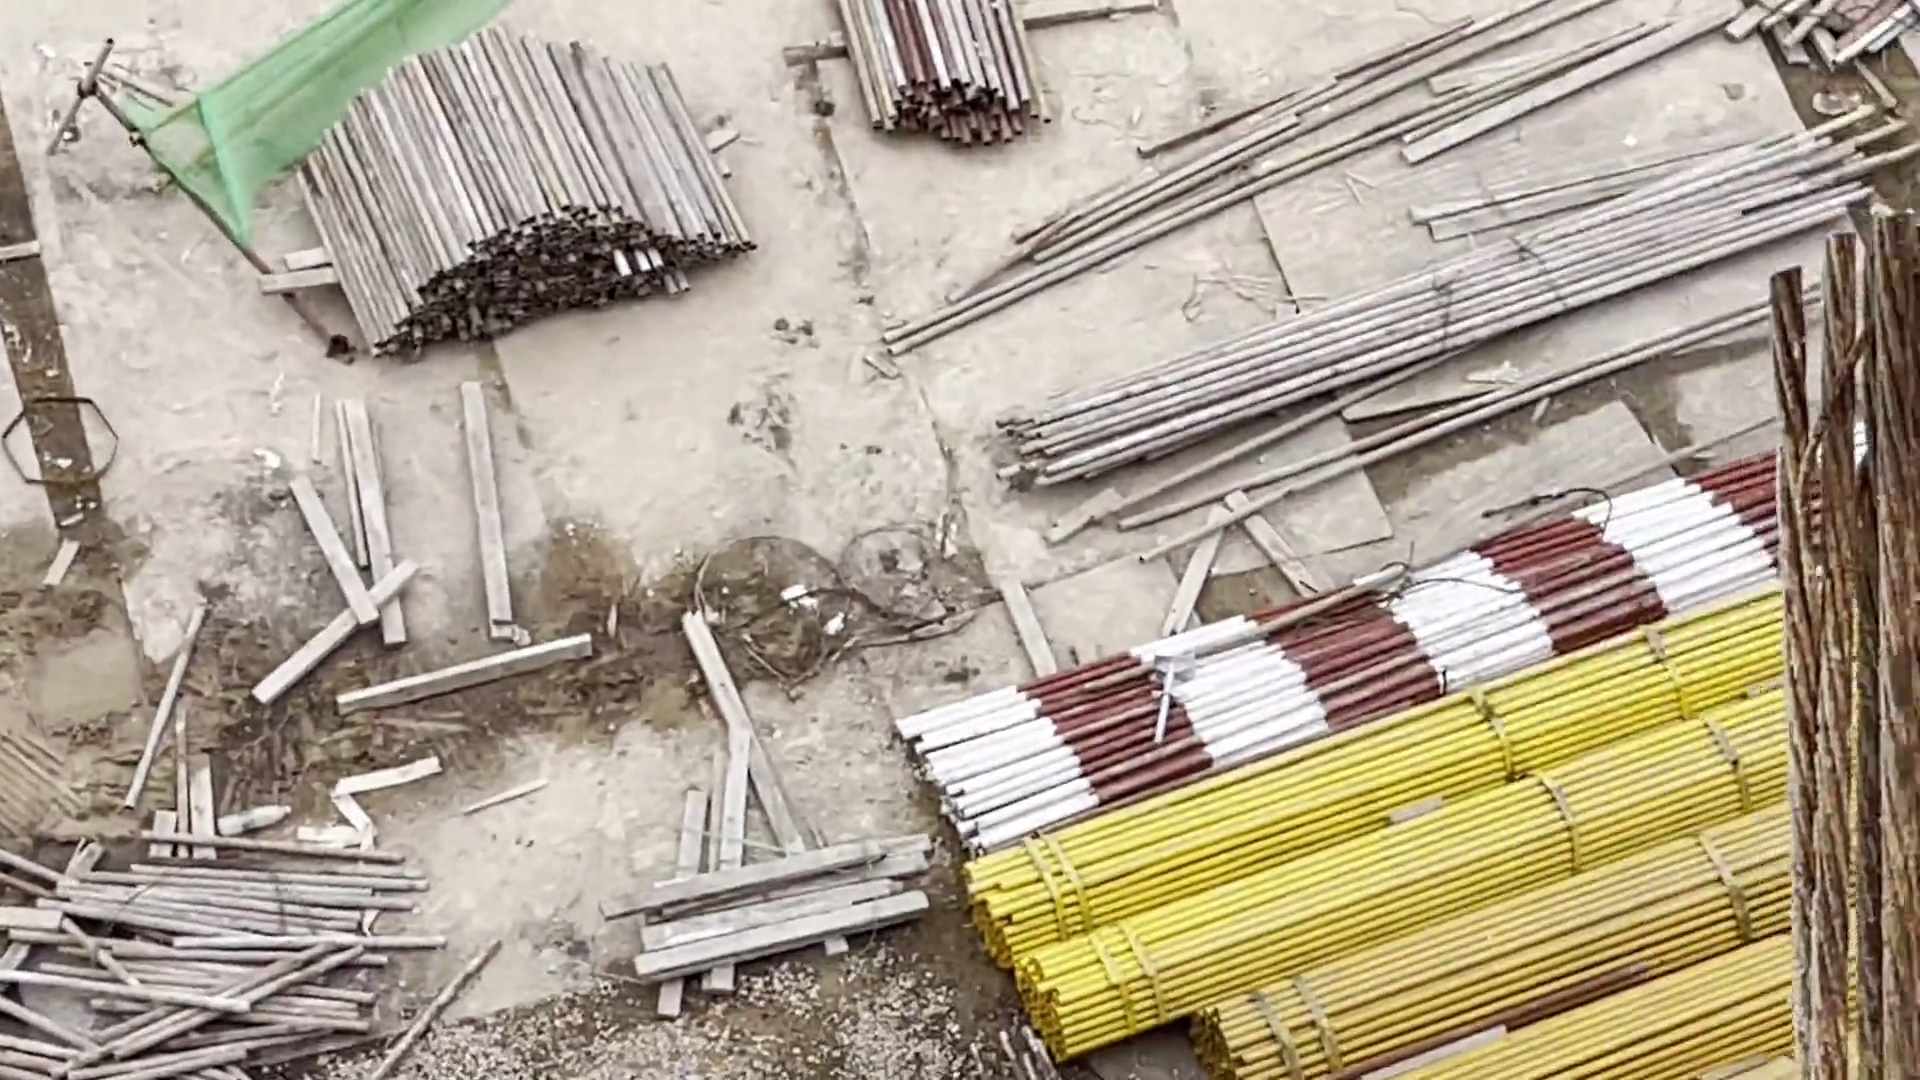wood: (280, 40, 761, 356), (819, 1, 1059, 160)
